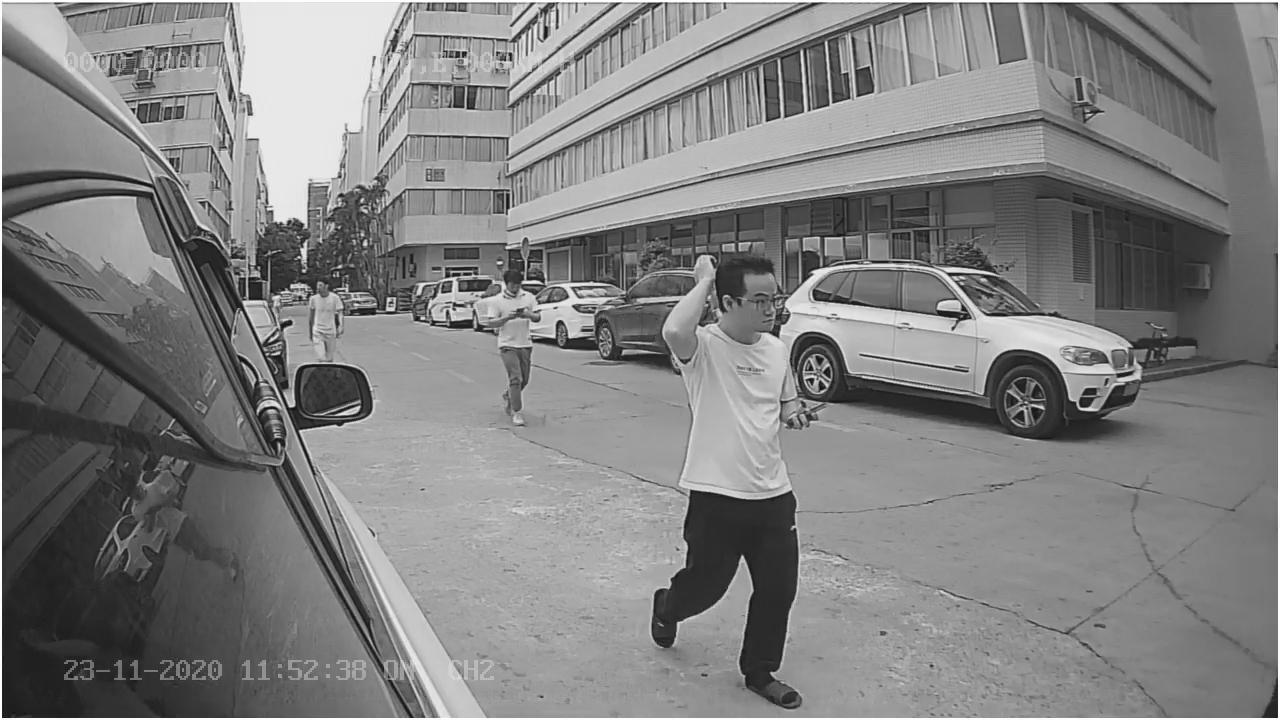person: (655, 253, 803, 694)
